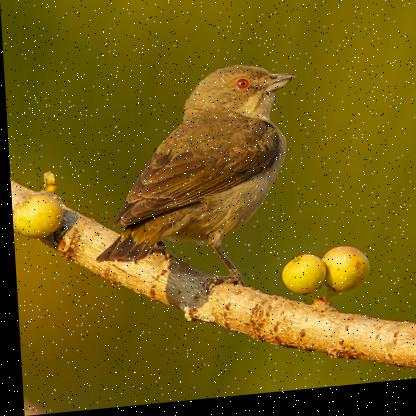Burung: (88, 69, 307, 292)
